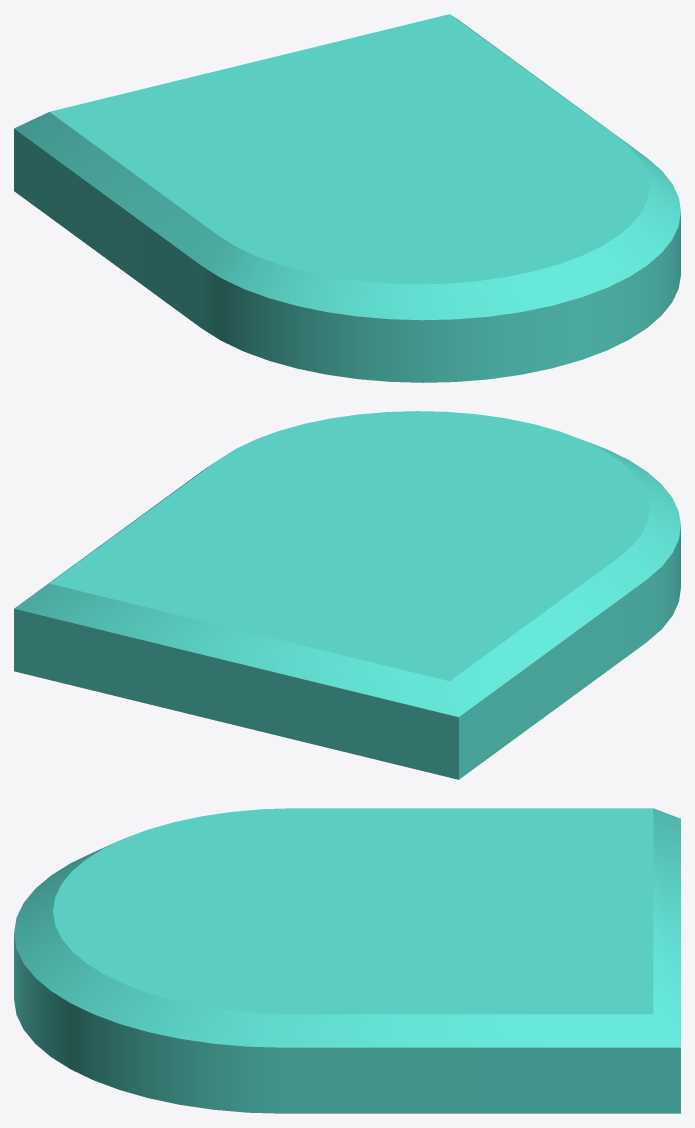
Rendered from and.fbx.
The picture shows the model from 3 angles, top to bottom: view 1: azimuth 30°, elevation 25°; view 2: azimuth 150°, elevation 25°; view 3: azimuth 270°, elevation 25°; orthographic projection. The views are drawn at different scales.
Visible parts, largest first — view 1: path6087; view 2: path6087; view 3: path6087.
Part boxes in pixels (bbox=[...]): path6087: bbox=[14, 14, 680, 382]; path6087: bbox=[14, 411, 680, 779]; path6087: bbox=[14, 808, 680, 1113].
Size of the model in its own units: 2.23 by 0.4 by 2.74.
